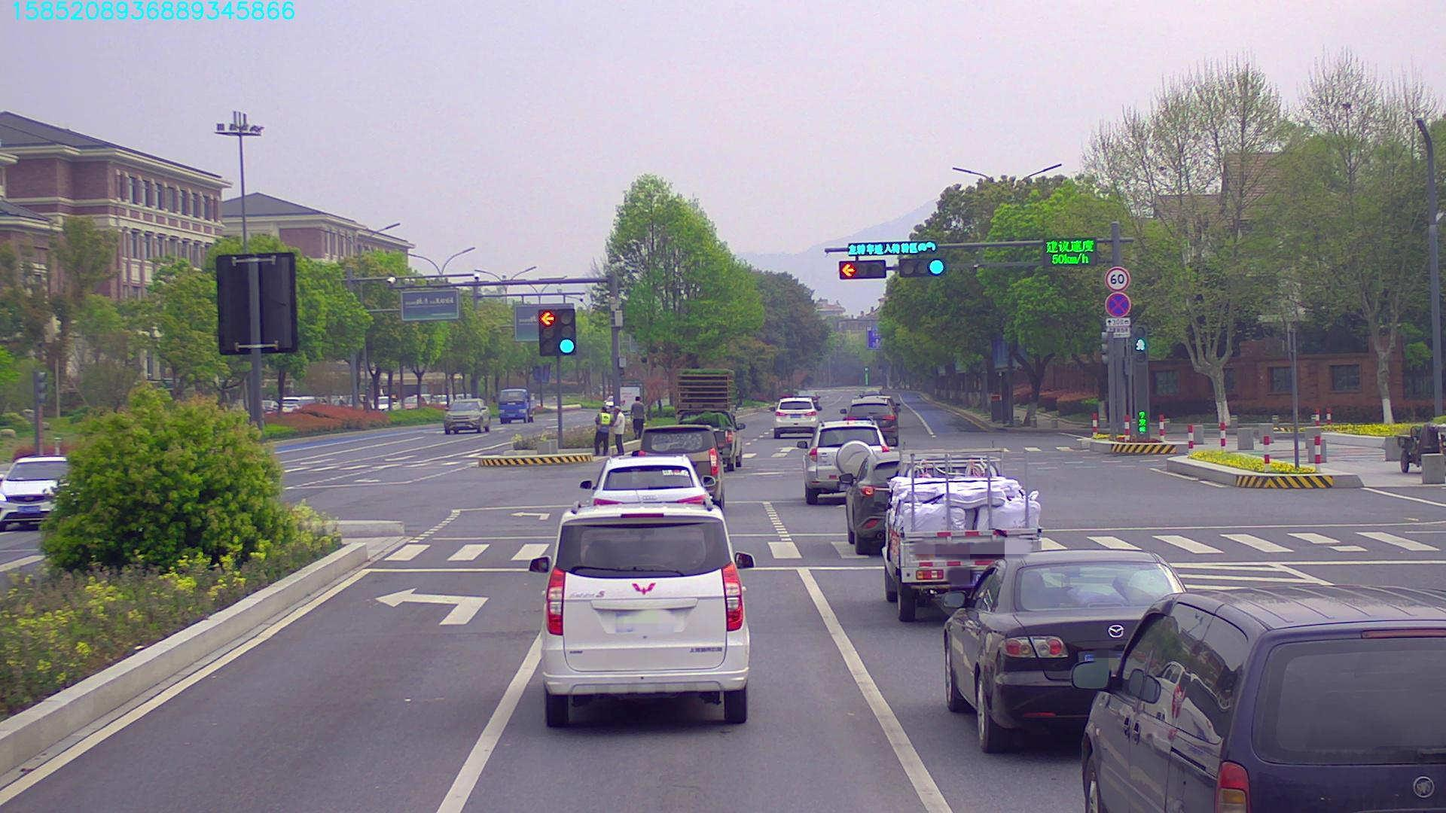green: (898, 260, 946, 282)
red: (834, 261, 890, 282)
wait_on: (844, 238, 941, 257)
